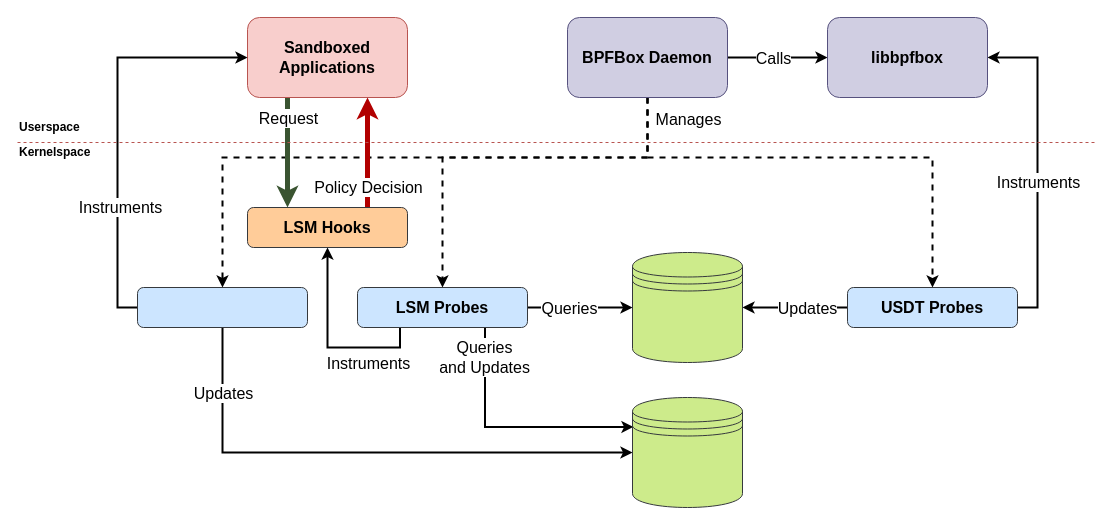
Some shapes in this 1116 by 525 pixel diagram are drawn without their labels. Here are the shapes that lost their labels. From the top down, the centre of each, then its label:
At (222,307): "Tracepoints, uprobes, kprobes".
At (687,307): "Policy Maps".
At (687,452): "Process State Maps".
